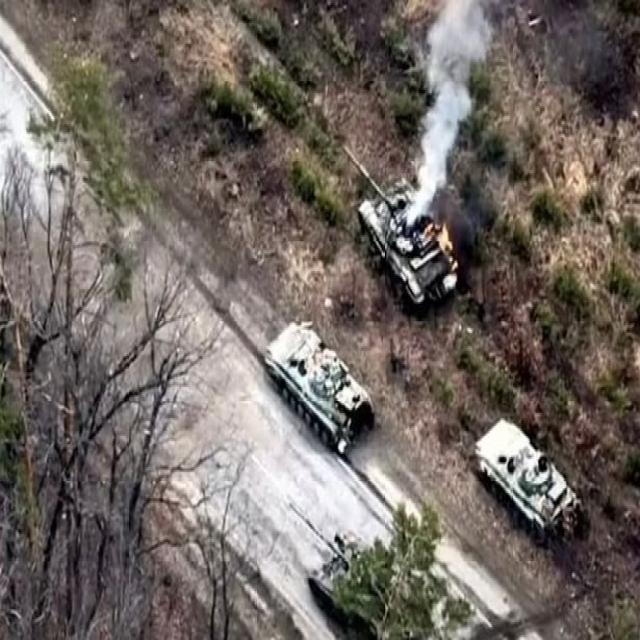tank: (336, 137, 462, 317), (462, 412, 590, 551), (263, 322, 375, 461)
